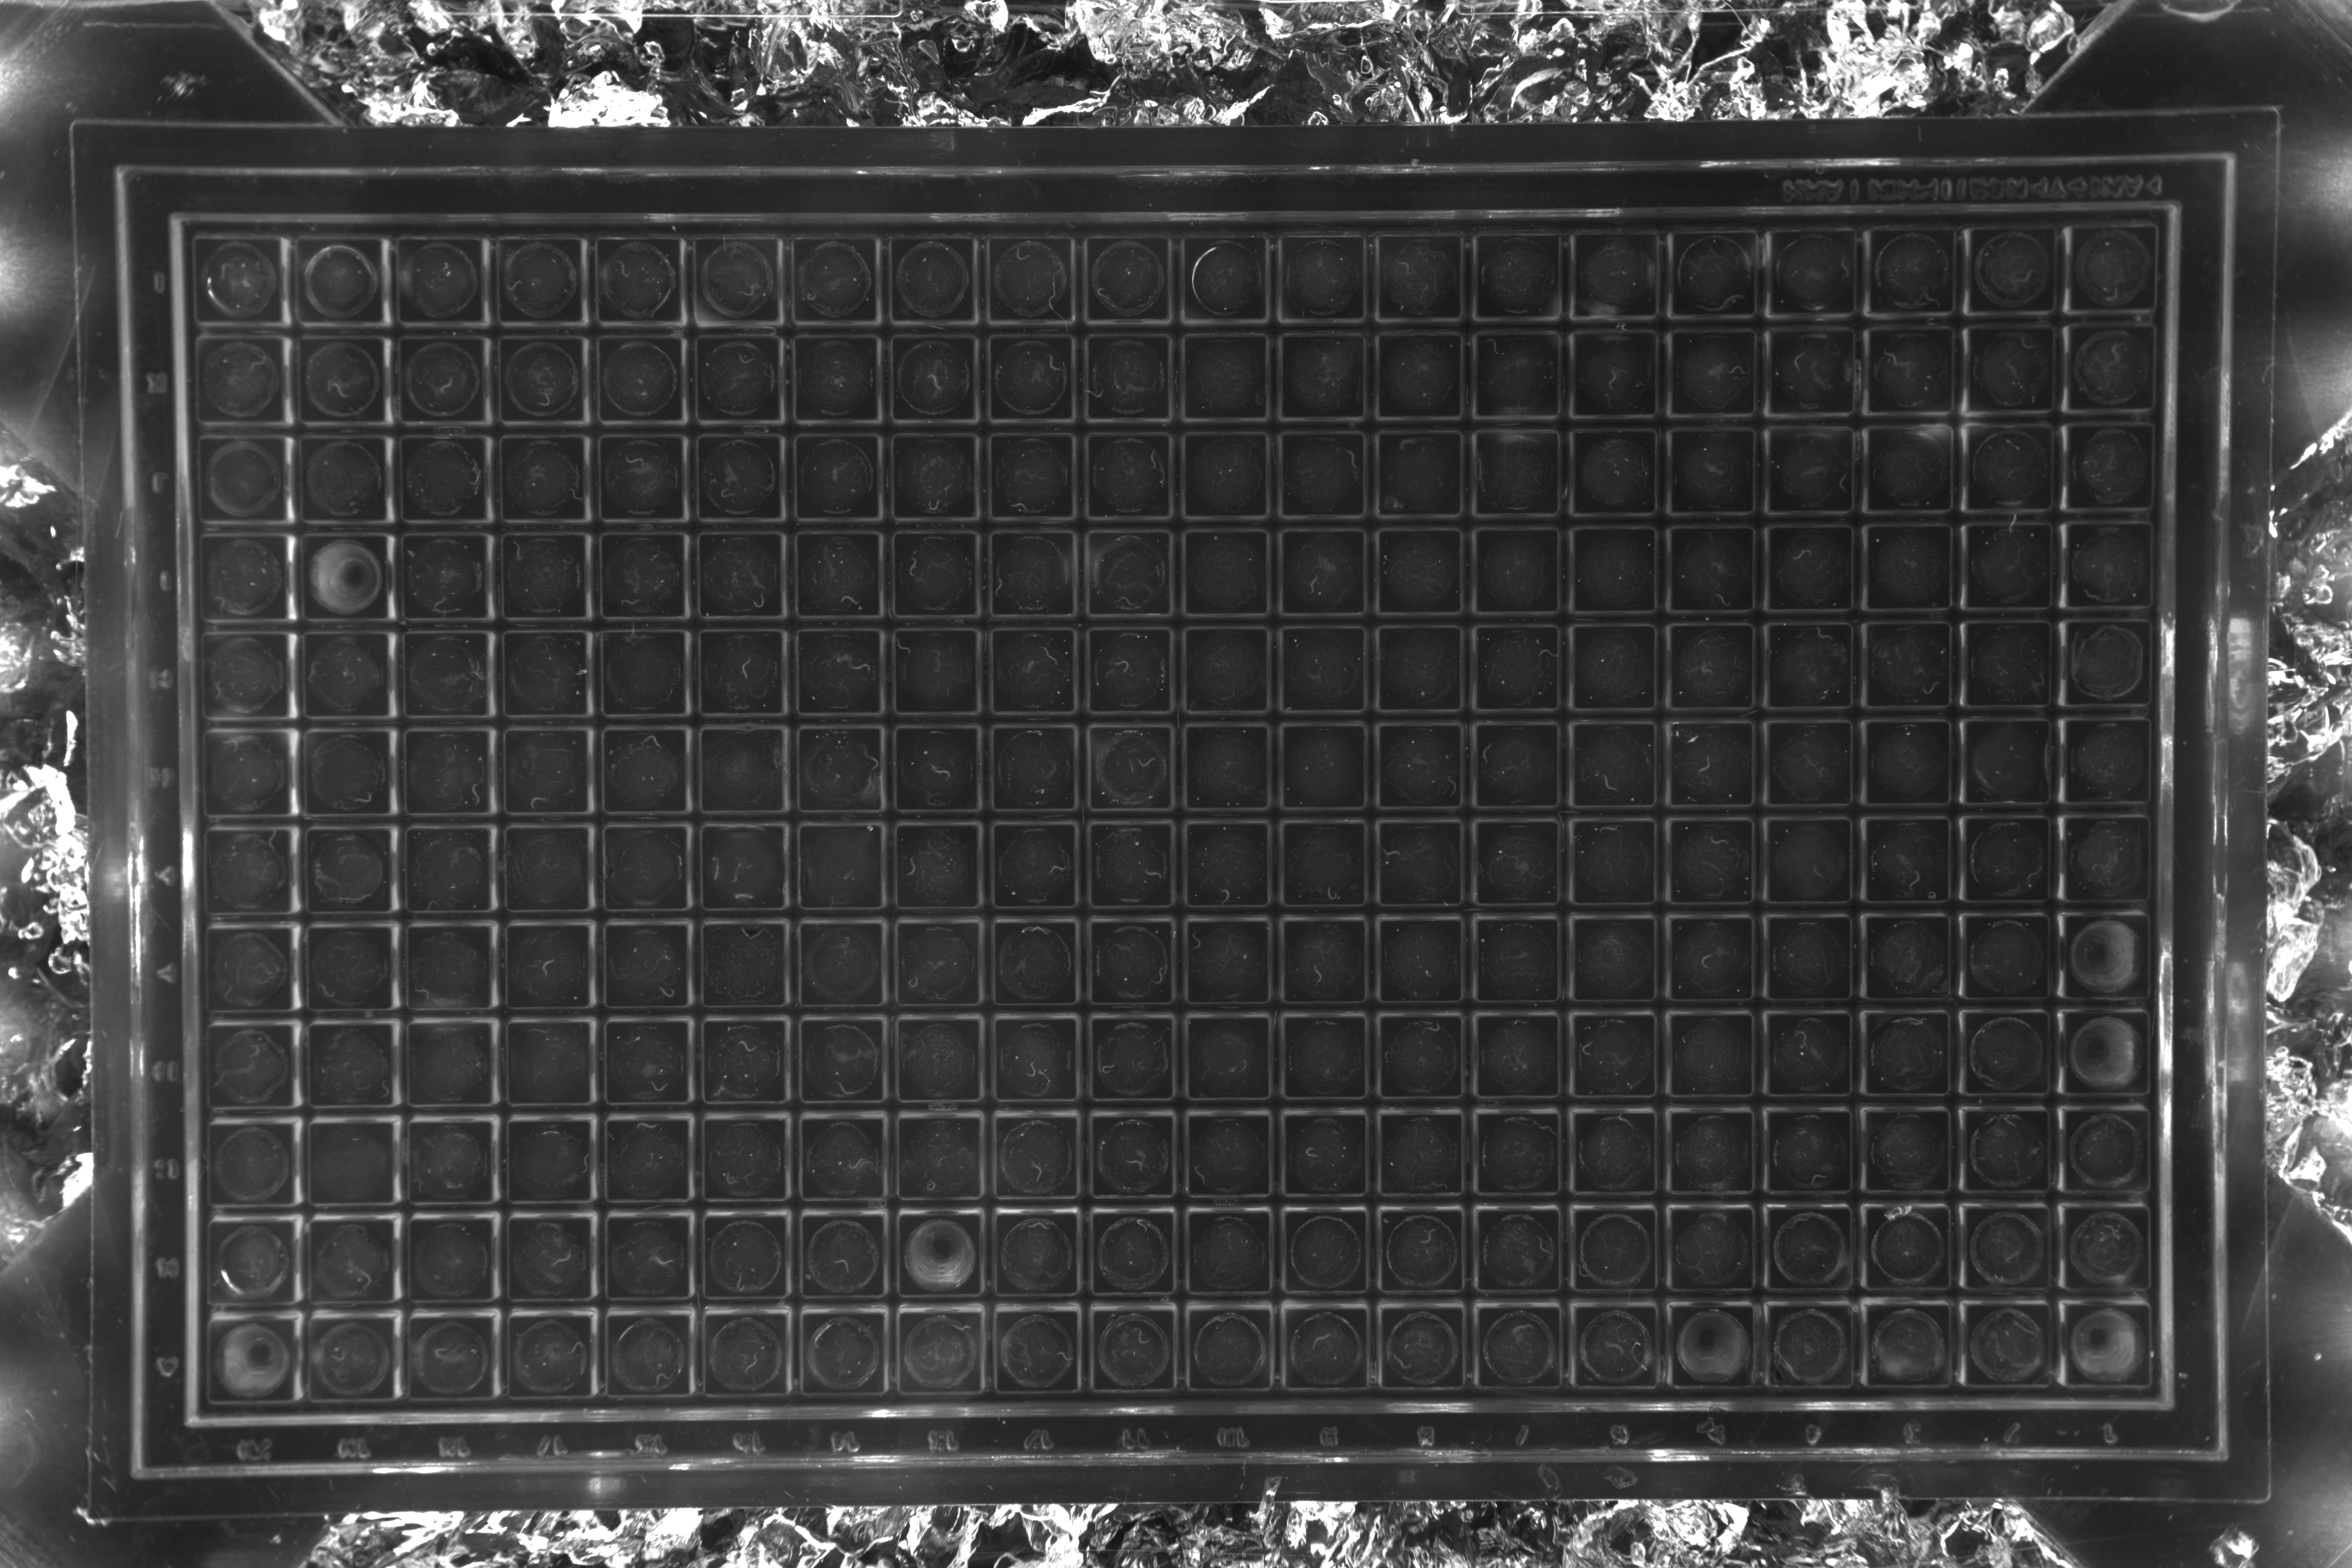WM_well: (203, 829, 292, 917), (789, 1213, 878, 1300), (1368, 1209, 1456, 1298), (203, 731, 290, 819), (290, 238, 378, 325), (296, 436, 383, 523), (401, 926, 488, 1013), (497, 730, 584, 817), (693, 1116, 780, 1204), (782, 142, 870, 229), (789, 824, 877, 912), (887, 1211, 975, 1298), (983, 1211, 1071, 1298), (1080, 532, 1167, 619), (1176, 436, 1263, 523), (1274, 338, 1361, 425), (1563, 1017, 1650, 1104), (1661, 920, 1748, 1008), (1759, 1115, 1846, 1202), (1864, 329, 1951, 416), (1865, 131, 1953, 219), (1956, 1017, 2044, 1104), (1956, 919, 2044, 1006), (2056, 919, 2144, 1006)
